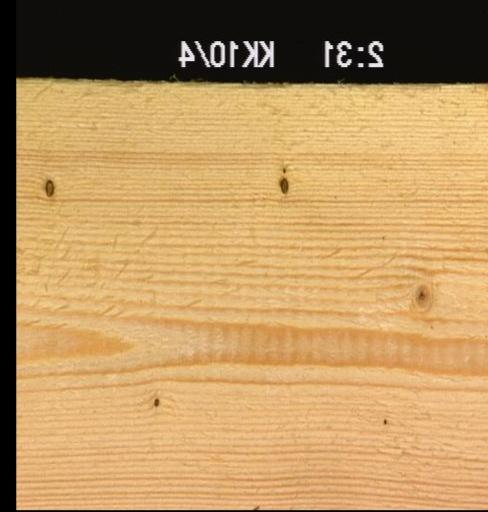dry_knot: (275, 172, 292, 198), (41, 175, 58, 197)
small_knot: (150, 392, 164, 410)
sound_knot: (406, 279, 437, 318)
